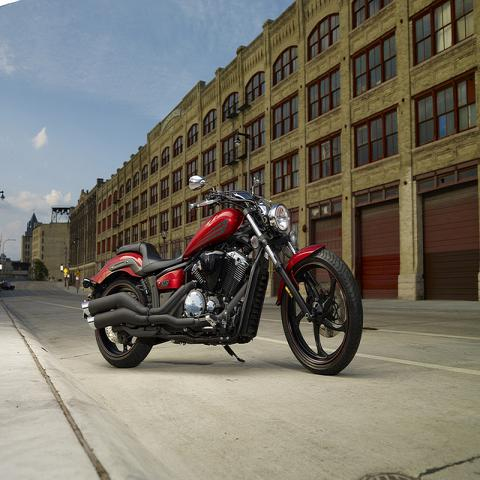car: (0, 283, 15, 290)
motorcycle: (80, 167, 362, 378)
